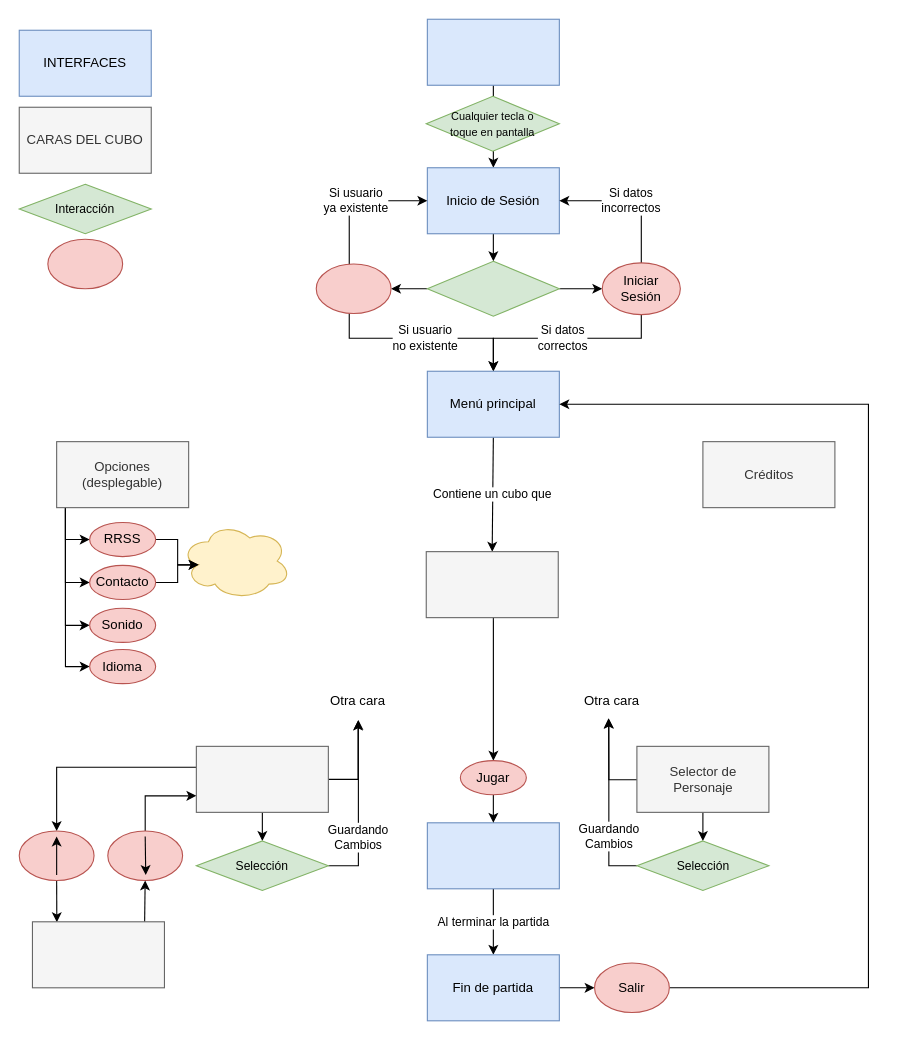
This 897x1041 diagram has some shape labels left out. The centre of each missing label's shape, as x and y in pixels:
"Botón" belongs at point 85,263.
"Cara Principal" belongs at point 491,584.
"Crear Cuenta" belongs at point 353,288.
"Especificaciones modo de juego" belongs at point 97,954.
"Introducción de datos" belongs at point 492,288.
"Pantalla de inicio (imagen)" belongs at point 492,51.
"Pantalla de Juego" belongs at point 492,855.
"Página Web" belongs at point 235,560.
"Selector modo de juego" belongs at point 261,778.
